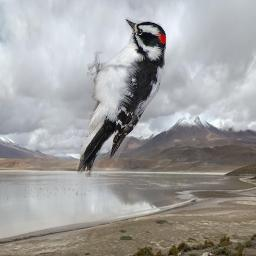Woodpecker: (75, 17, 166, 177)
